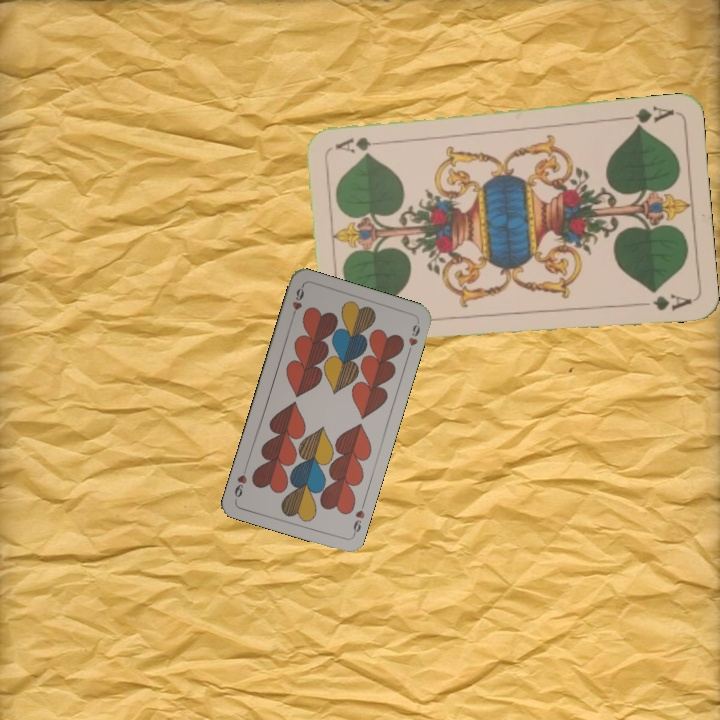GA: (618, 102, 677, 131)
H9: (287, 283, 307, 322), (349, 499, 368, 538)
